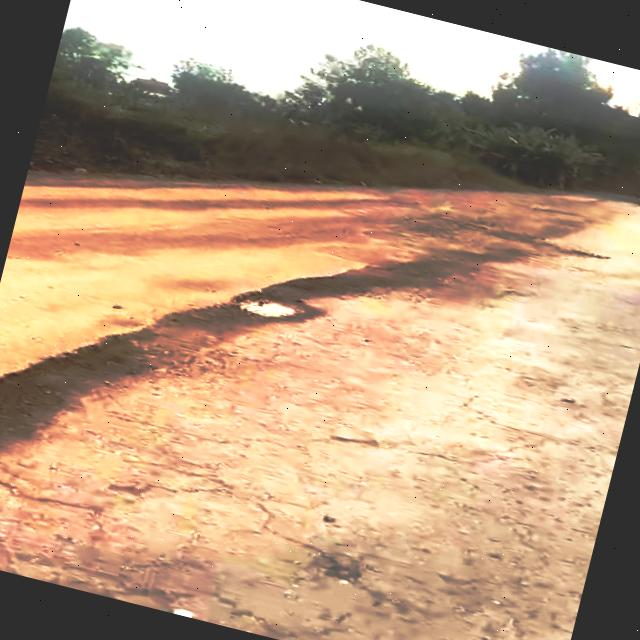pothole: (0, 284, 202, 507), (227, 278, 328, 339)
